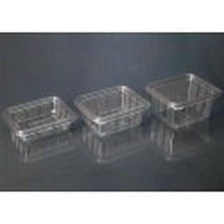plastic_box: (0, 83, 83, 153), (143, 68, 224, 135), (72, 79, 158, 142)
